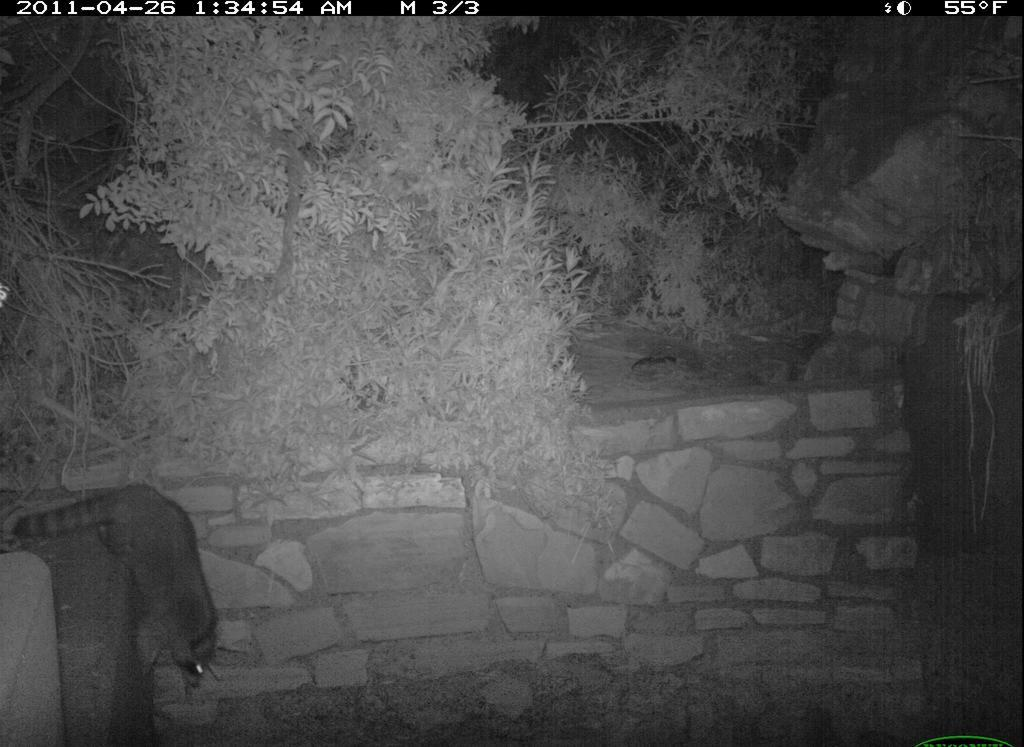raccoon: (15, 469, 226, 693)
